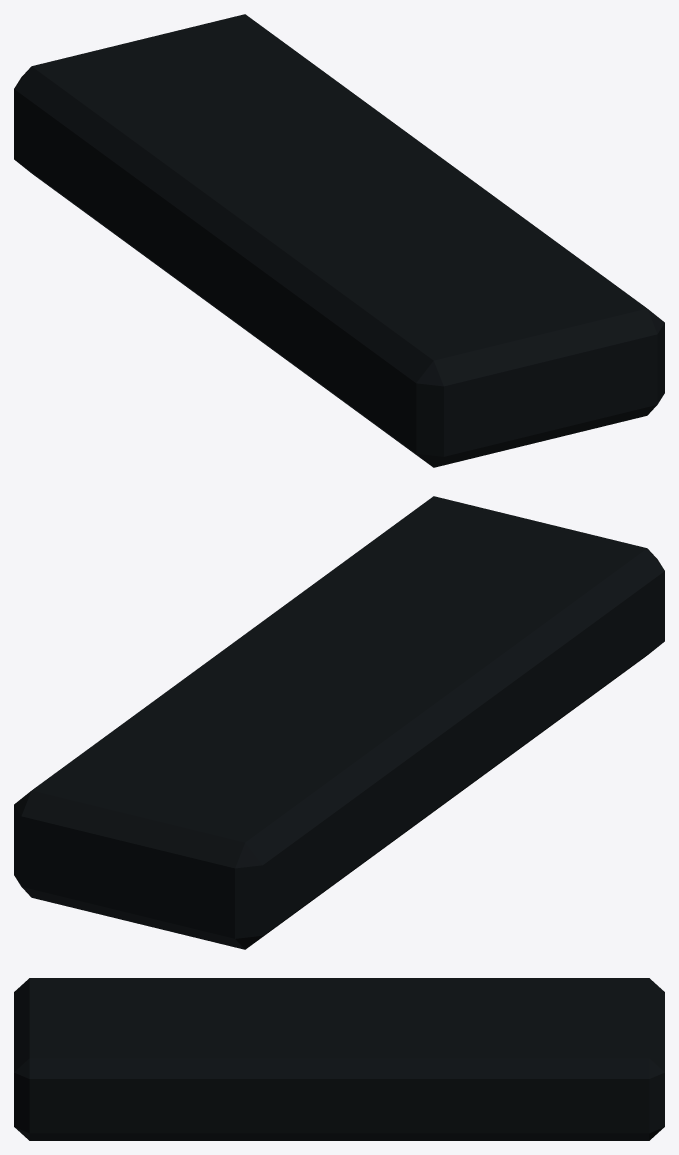
The model's file is Rocket80Twenty__Mount.obj.
The picture shows the model from 3 angles, top to bottom: view 1: azimuth 30°, elevation 25°; view 2: azimuth 150°, elevation 25°; view 3: azimuth 270°, elevation 25°; orthographic projection. The views are drawn at different scales.
Visible parts, largest first — view 1: Mount_lug; view 2: Mount_lug; view 3: Mount_lug.
Part boxes in pixels (<box>): Mount_lug: <box>14,14,664,467</box>; Mount_lug: <box>14,496,664,949</box>; Mount_lug: <box>14,978,664,1140</box>.
Bounding box in the file's own units: 0.17 × 0.07 × 0.5.
